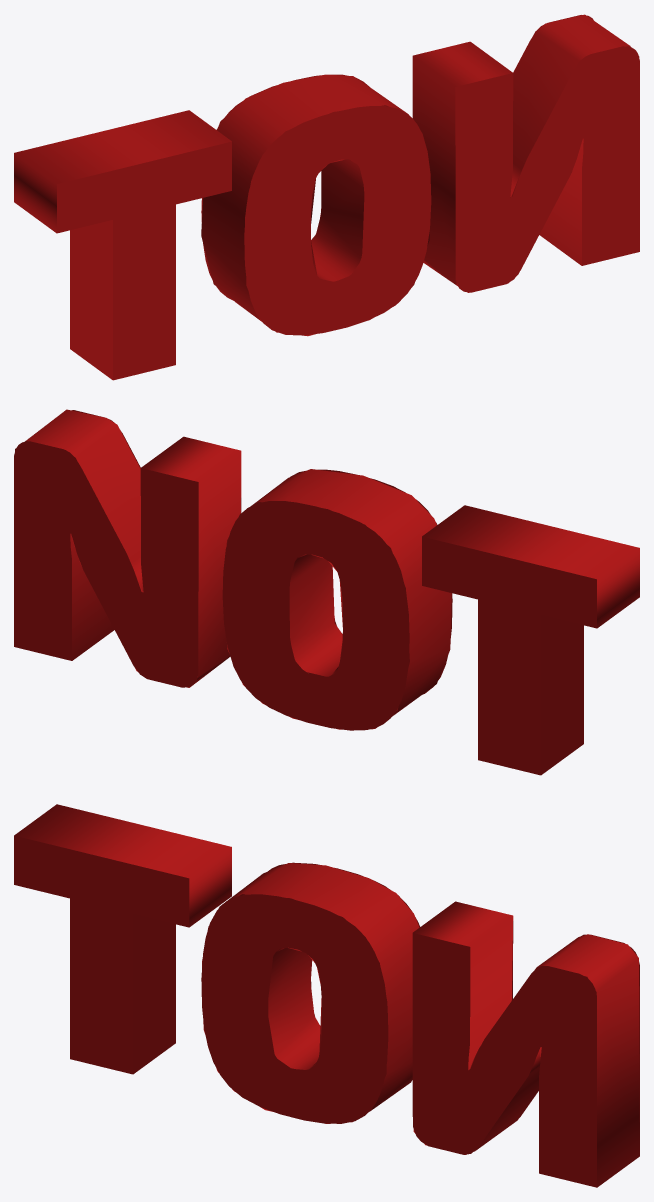
File: not.fbx
3 views of the same model, one above another, from view 1: azimuth 30°, elevation 25°; view 2: azimuth 150°, elevation 25°; view 3: azimuth 330°, elevation 25° (orthographic).
Parts seen in each view (by area): view 1: Text; view 2: Text; view 3: Text.
Boxes of the visible parts, x1,y1,x2,y2 form: Text: [14, 14, 639, 380]; Text: [14, 409, 639, 775]; Text: [14, 804, 639, 1187].
Size of the model in its own units: 6.28 by 2.25 by 0.8.
